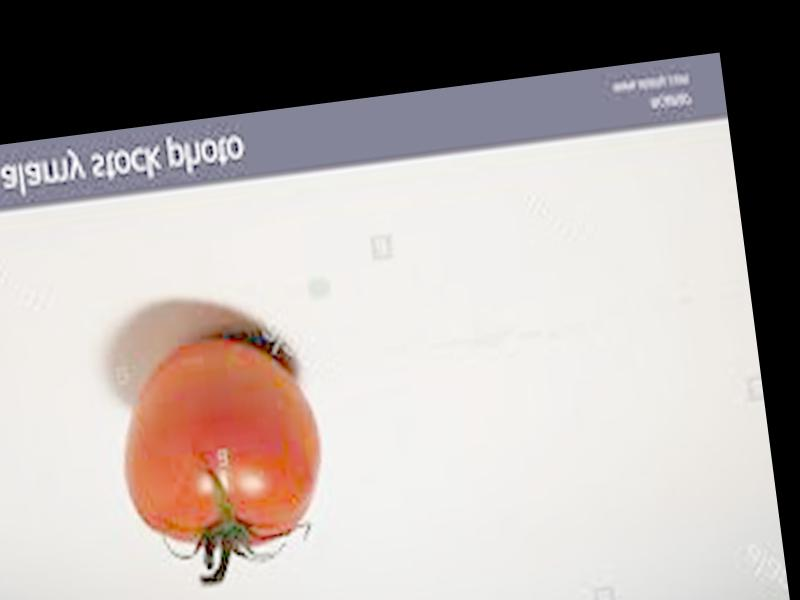Tomato: (111, 326, 331, 558)
